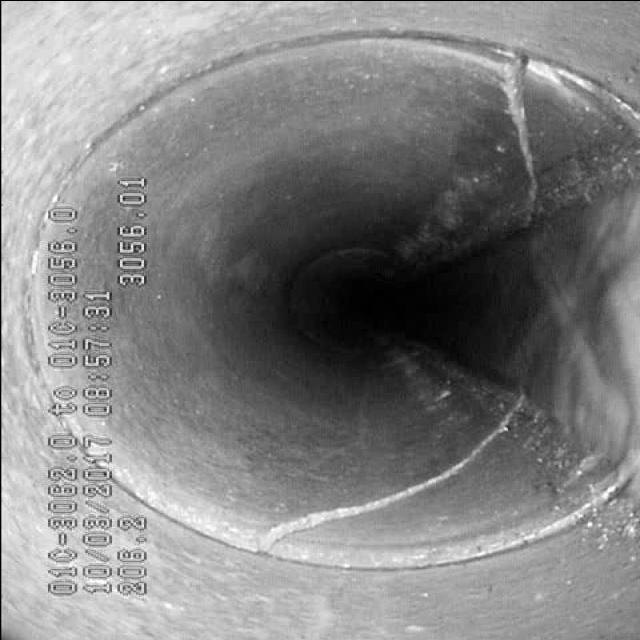Fracture: (248, 400, 504, 546), (470, 61, 552, 208)
